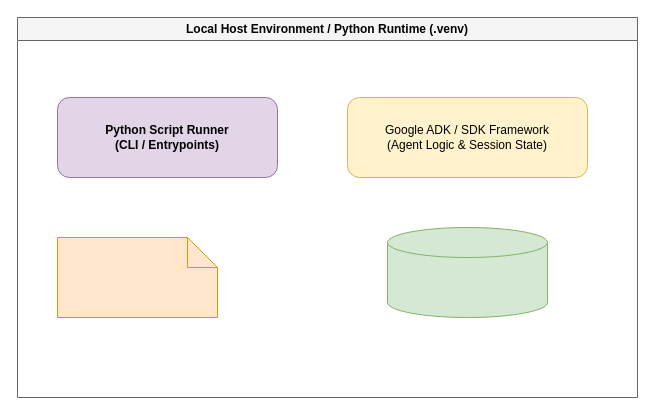
Image size: 655x415. Some labels were removed from this diagram. Each missing label, with the centre of its shape:
.env Configuration (API Keys & Parameters): the point at 137,277
Local Storage / Reports (JSON, CSV, logs): the point at 467,272
